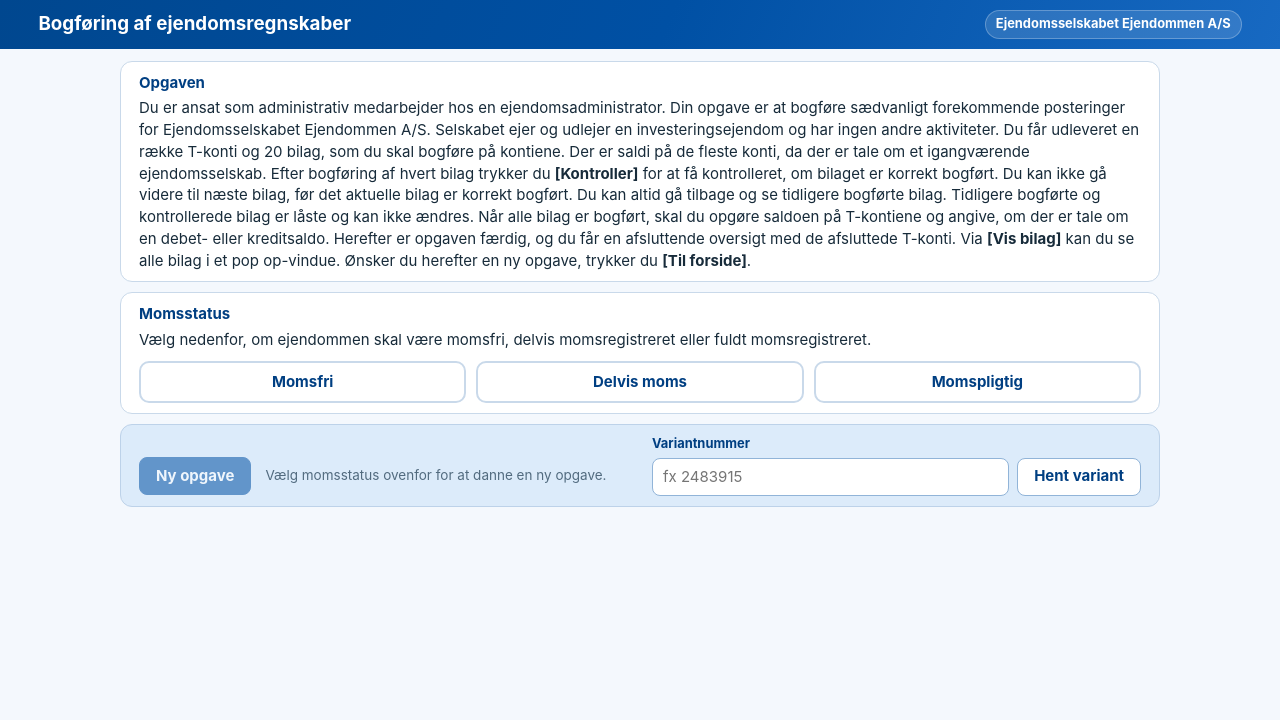
Test: forsiden › viser en fejl ved et ugyldigt variantnummer og starter ingen opgave
Step 1. Type "12345" into the field labelled "Variantnummer" → (831, 477), box [652,458,1009,496]
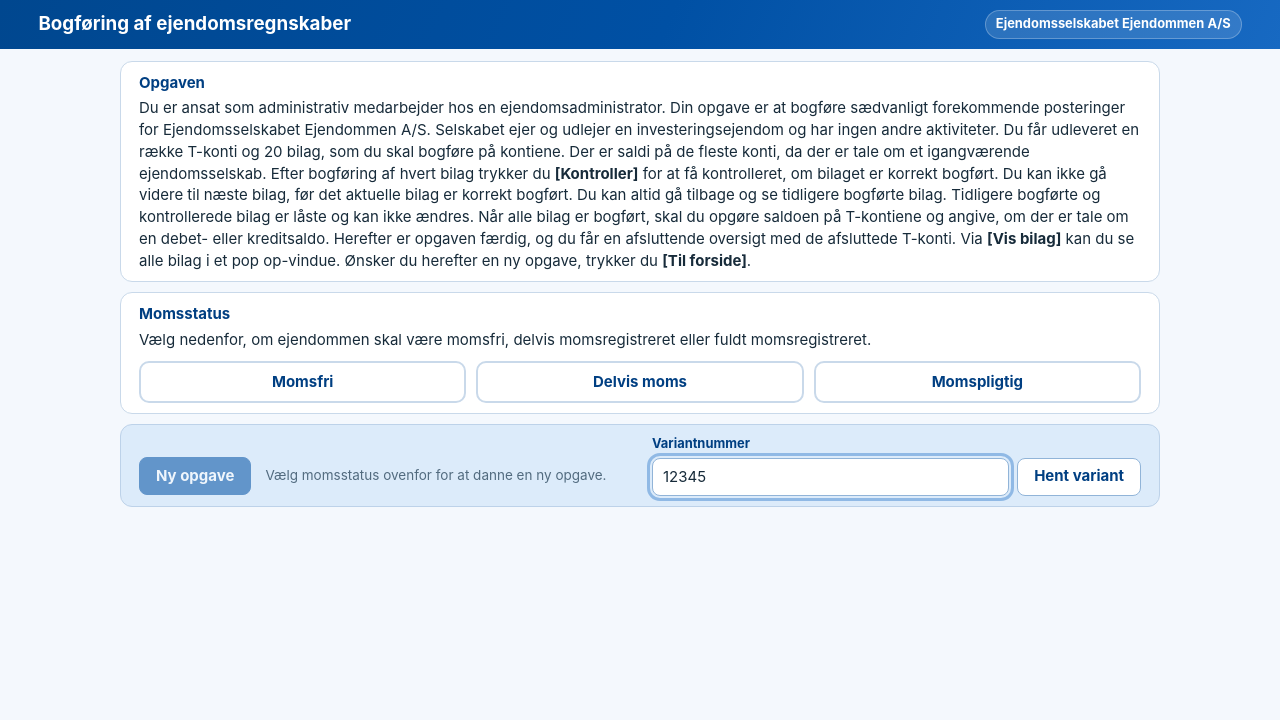
Step 2. Click the button "Hent variant" → (1079, 477), box [1017,458,1141,496]
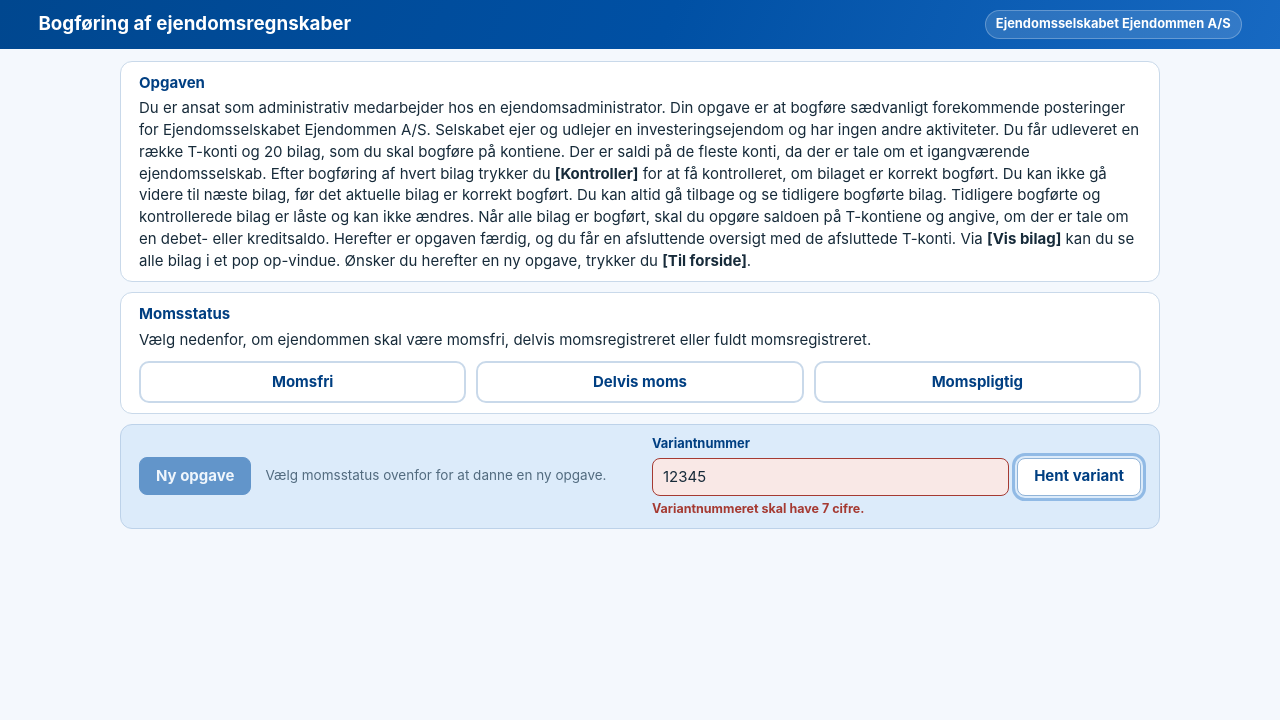
Expected: the message reads "Variantnummeret skal have 7 cifre.", [652,501,864,516]
